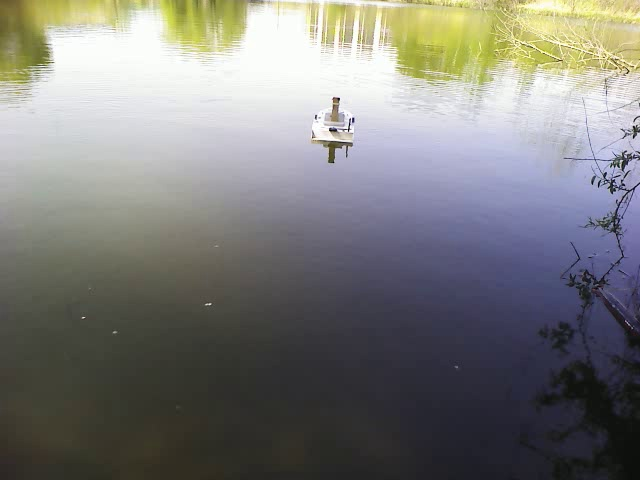boat: (310, 99, 358, 147)
